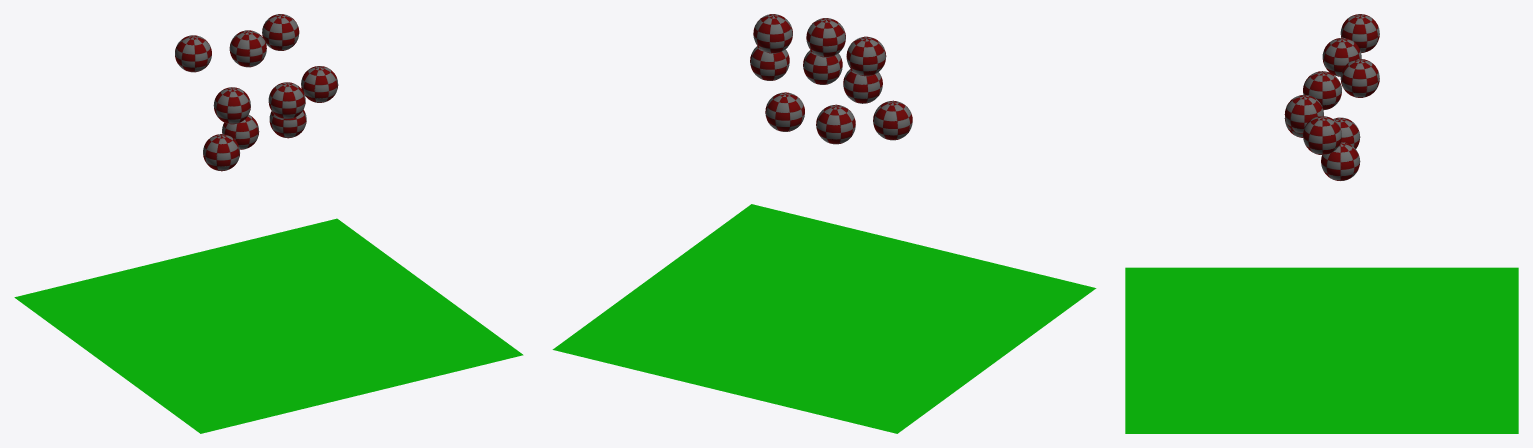
The model's file is SampleScene.gltf.
The picture shows the model from 3 angles, left to right: view 1: azimuth 30°, elevation 25°; view 2: azimuth 150°, elevation 25°; view 3: azimuth 270°, elevation 25°; orthographic projection. The views are drawn at different scales.
Parts seen in each view (by area): view 1: Plane, Sphere (8), Sphere (5), Sphere (4), Sphere (1), Sphere (7), Sphere (6), Sphere (9), Sphere (2), Sphere (3); view 2: Plane, Sphere (7), Sphere (3), Sphere (9), Sphere (2), Sphere (8), Sphere (1), Sphere (4), Sphere (6), Sphere (5); view 3: Plane, Sphere (9), Sphere (6), Sphere (3), Sphere (7), Sphere (4), Sphere (8), Sphere (5), Sphere (2).
Part boxes in pixels (x1,y1,x2,y2): Plane: [14, 218, 523, 433]; Sphere (8): [229, 30, 266, 67]; Sphere (5): [268, 82, 305, 119]; Sphere (4): [213, 87, 250, 124]; Sphere (1): [203, 134, 239, 171]; Sphere (7): [175, 35, 211, 72]; Sphere (6): [301, 66, 338, 102]; Sphere (9): [262, 14, 299, 50]; Sphere (2): [222, 115, 259, 149]; Sphere (3): [269, 109, 306, 138]; Plane: [552, 204, 1096, 433]; Sphere (7): [846, 36, 886, 76]; Sphere (3): [765, 92, 804, 131]; Sphere (9): [753, 14, 792, 53]; Sphere (2): [816, 104, 855, 144]; Sphere (8): [806, 18, 845, 57]; Sphere (1): [873, 100, 912, 140]; Sphere (4): [843, 68, 882, 103]; Sphere (6): [750, 46, 789, 80]; Sphere (5): [803, 50, 842, 84]; Plane: [1125, 267, 1518, 433]; Sphere (9): [1340, 59, 1379, 97]; Sphere (6): [1303, 116, 1341, 155]; Sphere (3): [1321, 142, 1360, 180]; Sphere (7): [1340, 14, 1379, 52]; Sphere (4): [1303, 71, 1341, 110]; Sphere (8): [1322, 37, 1361, 76]; Sphere (5): [1284, 95, 1323, 133]; Sphere (2): [1333, 117, 1360, 148].
Bounding box in the file's own units: 10 × 8.58 × 10.
Materials: 3 (2 with a texture image).
